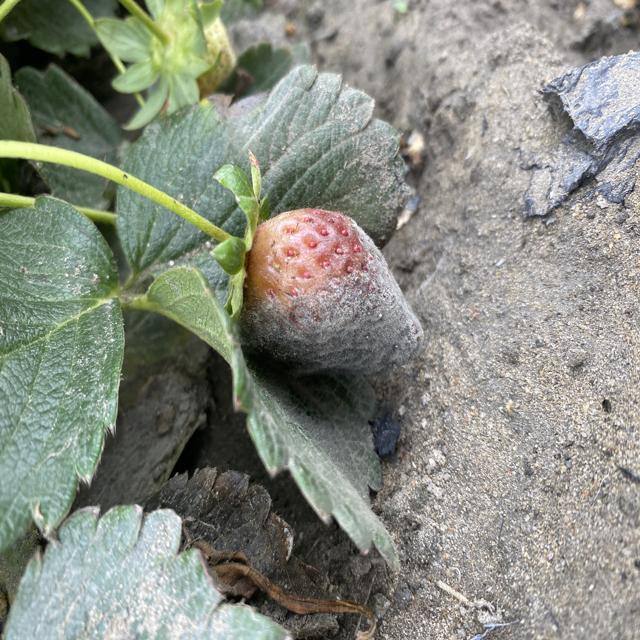Botrytis: (235, 208, 426, 380)
